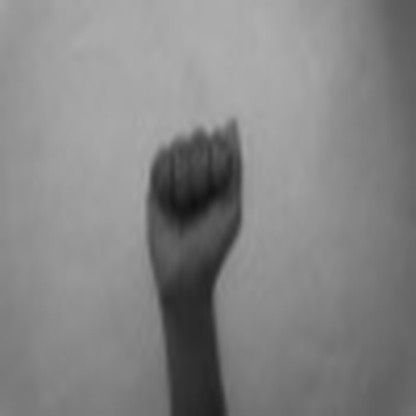a: (140, 109, 249, 292)
